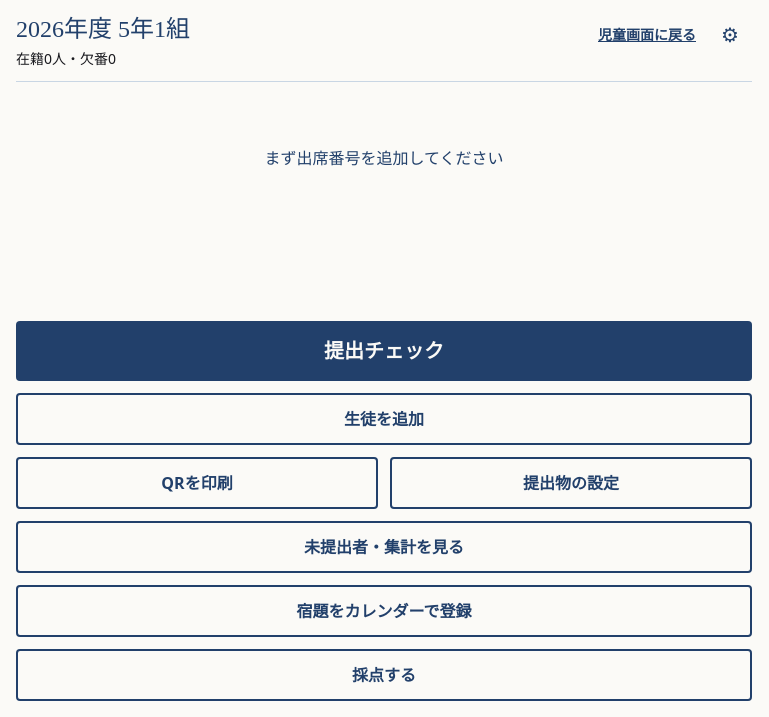
Test case: 設定画面 › 名簿から設定に入れる
Click the link named "設定": coordinates (730, 34) [721,21,739,48]
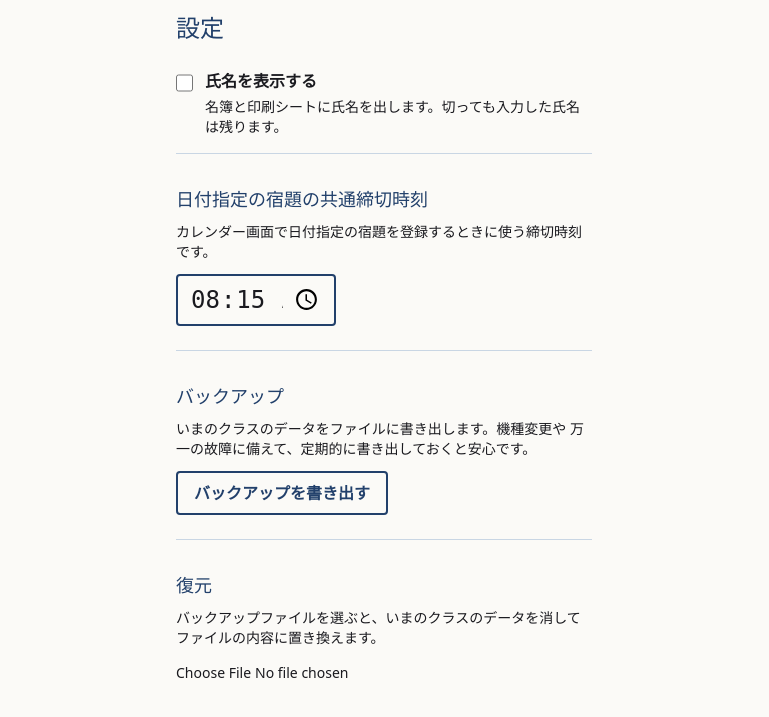
expect the heading "設定" is shown: met, box [176,16,224,42]
